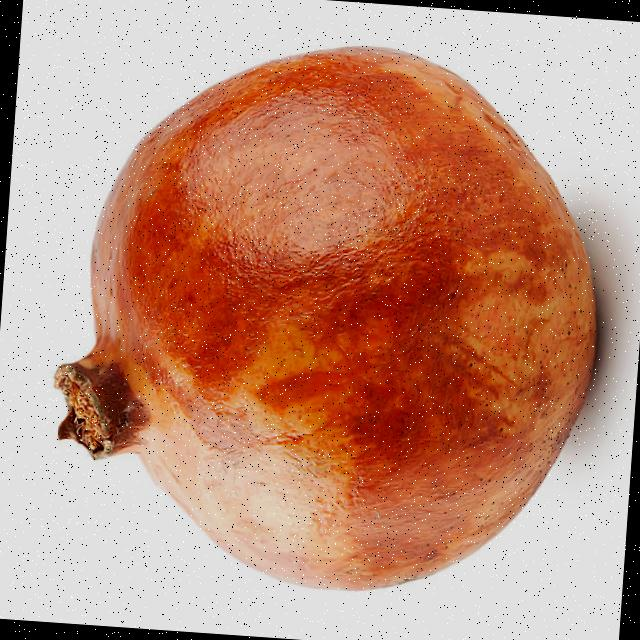overripe: (33, 19, 620, 608)
